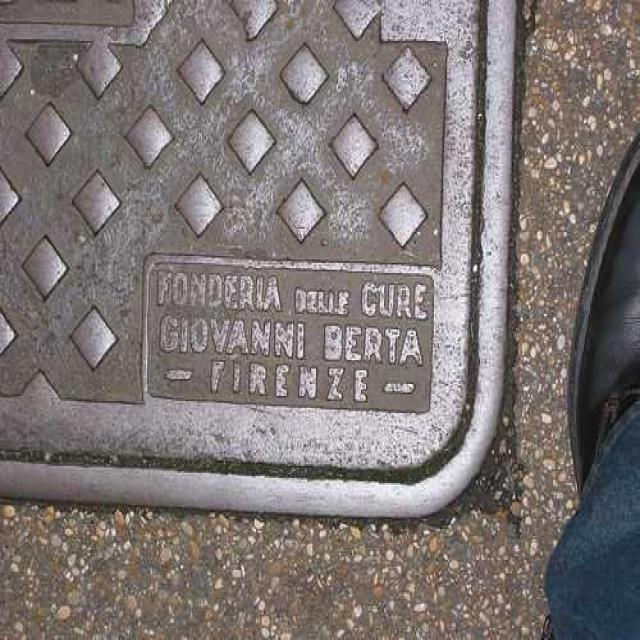manhole: (0, 1, 512, 516)
